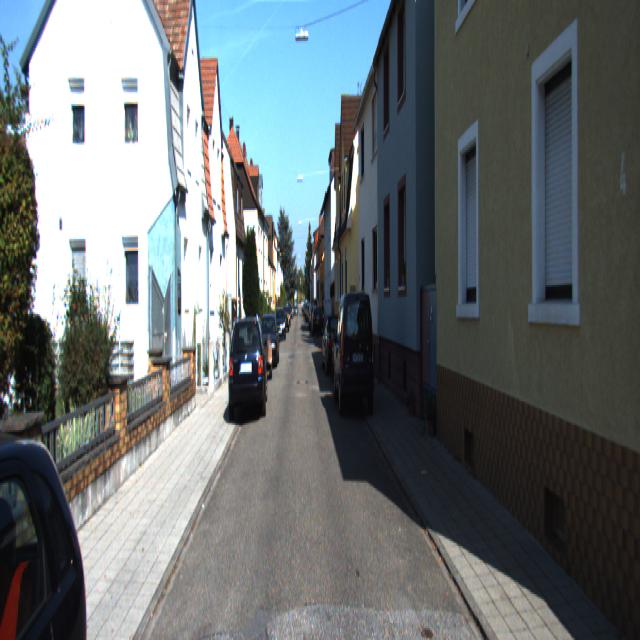Car: (0, 384, 109, 638), (332, 284, 375, 416), (228, 311, 266, 423), (322, 310, 350, 376), (260, 310, 280, 368), (250, 329, 272, 379)
